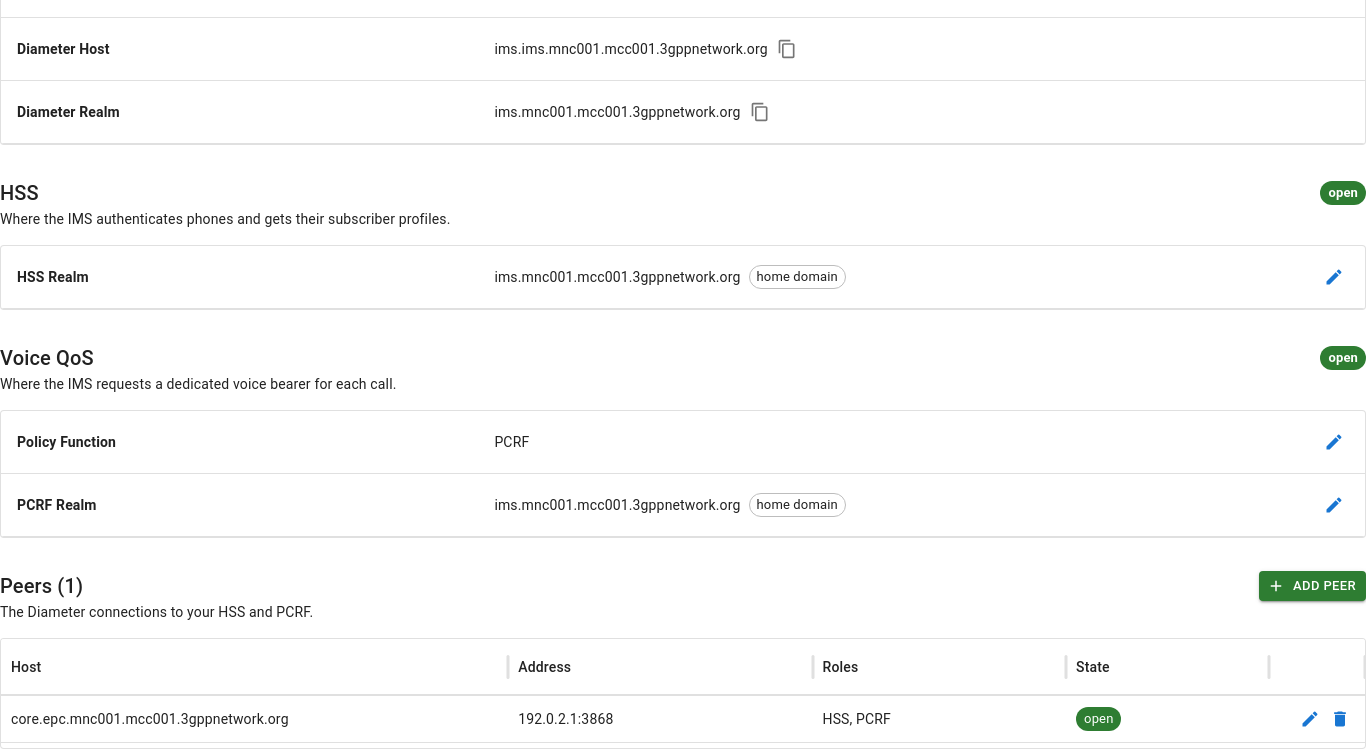
Scenario: Cores › warns when an edit changes the transports and restarts Diameter and SIP
This screenshot has width=1366, height=749.
(page scrolled)
Click the button named "Edit core.epc.mnc001.mcc001.3gppnetwork.org".
click(1310, 719)  # box top-left (1295, 704), bottom-right (1325, 734)
(page scrolled)
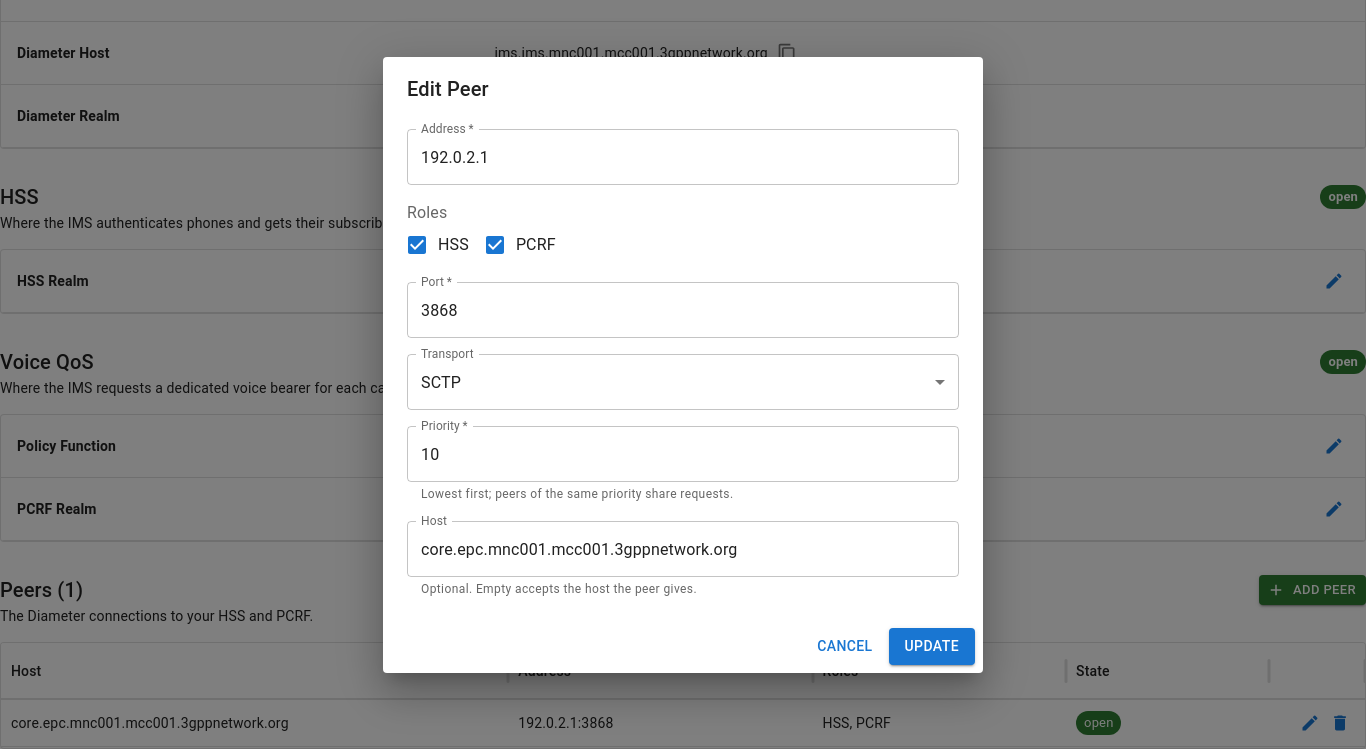
Press the mouse on the dropdown named "Transport" at (441, 382), box top-left (421, 373), bottom-right (461, 392)
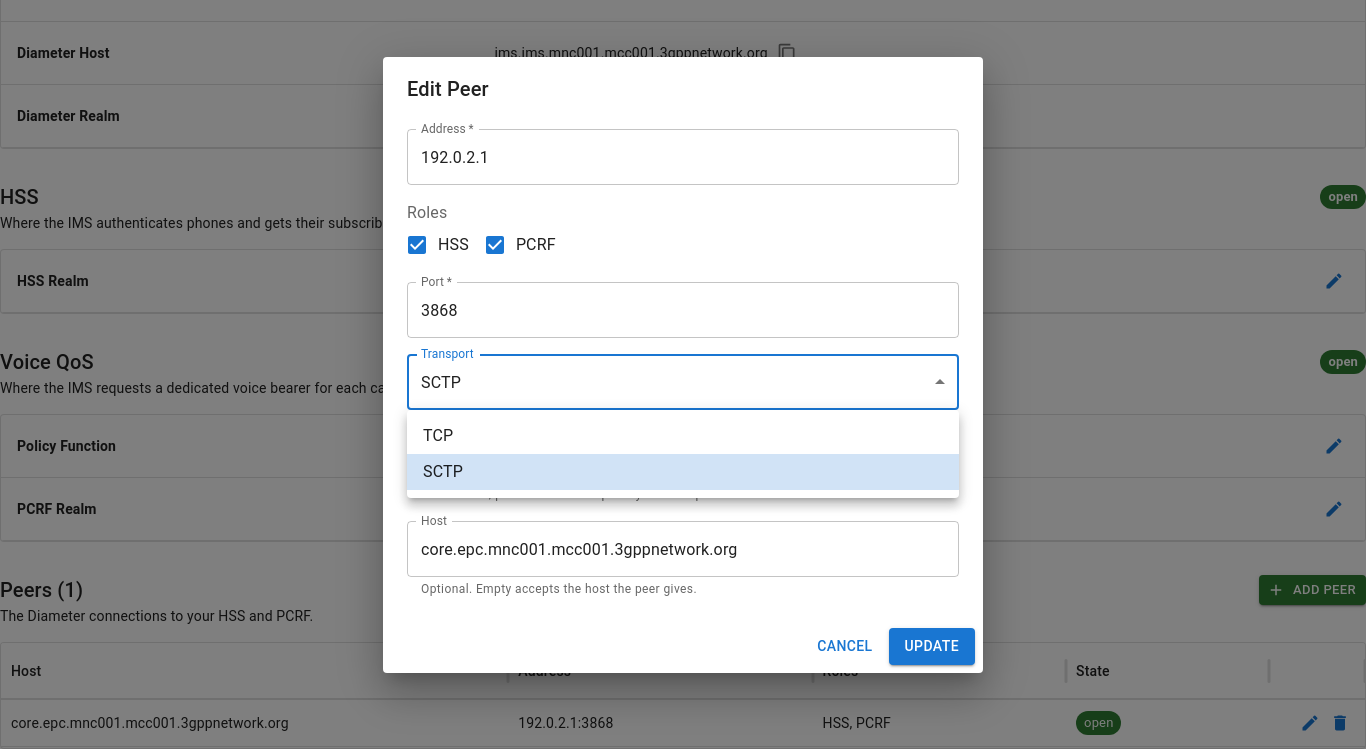
Click the option "TCP".
click(438, 436)  # box top-left (423, 426), bottom-right (453, 445)
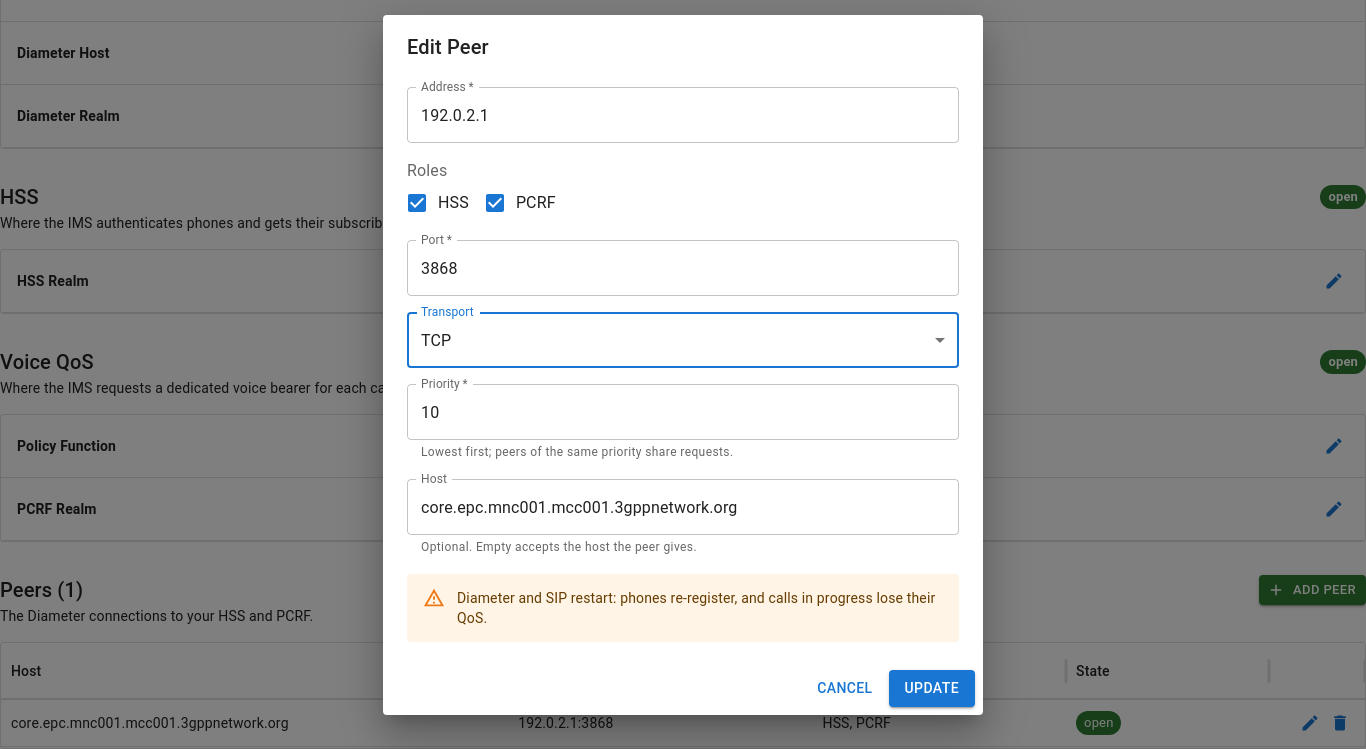
Check: the message shows "Diameter and SIP restart", box top-left (457, 590), bottom-right (935, 626)
